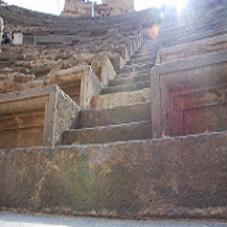Bench: (65, 59, 148, 139)
